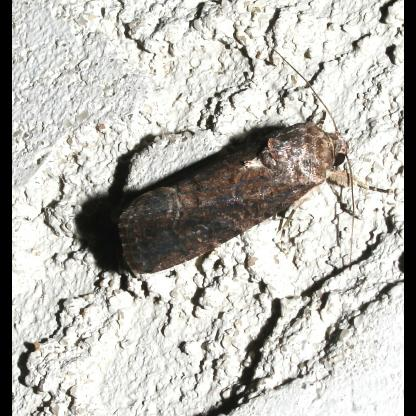Fall Armyworm Moth: (116, 53, 398, 276)
